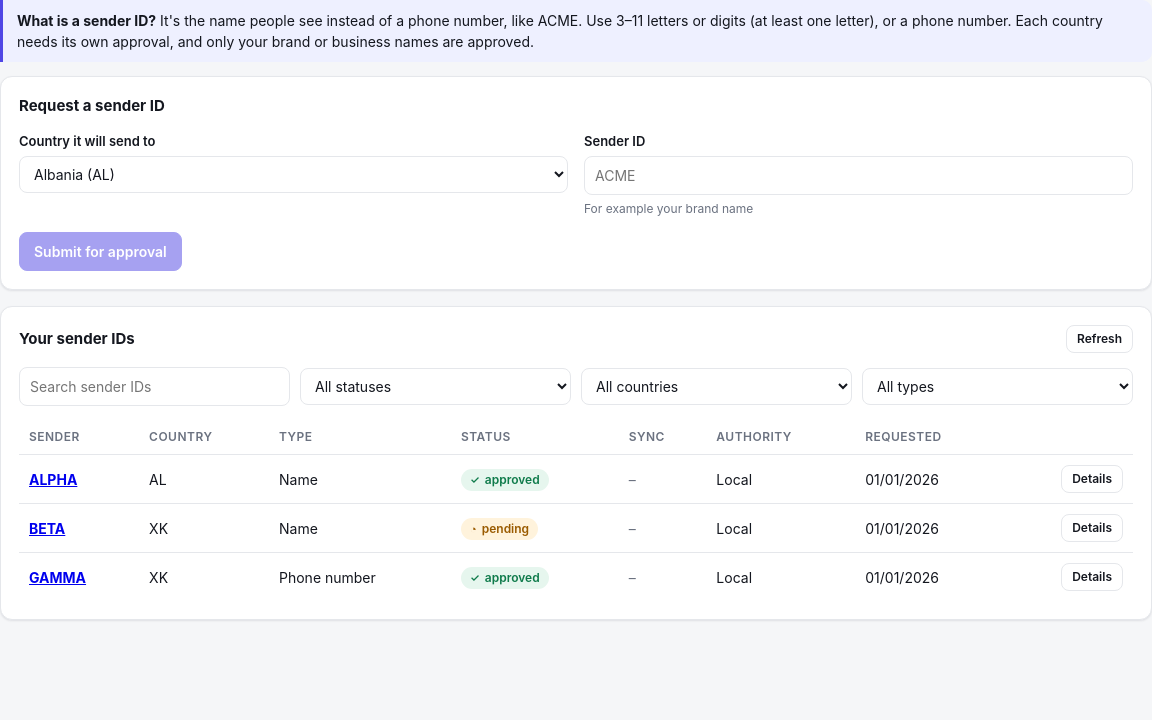
Test: filters, pagination, empty, loading, errors › 25 filters by search, status, country and type (over the loaded, capped set)
Expected: the text "ALPHA" is shown, [29,470,77,488]
Type "bet" into the search field with placeholder "Search sender IDs" at (154, 386), box [19,367,290,406]
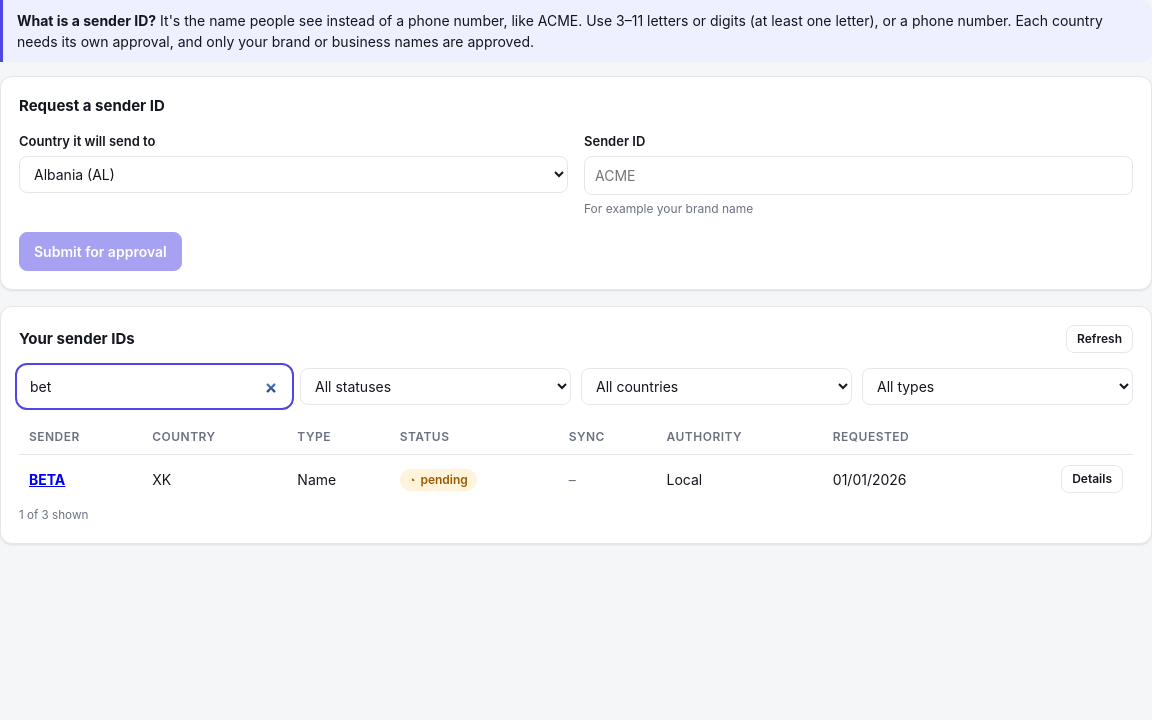
Expected: the text "BETA" is shown, [29,470,65,488]
Expected: the link "ALPHA" is gone
Clear the search field at (154, 386), box [19,367,290,406]
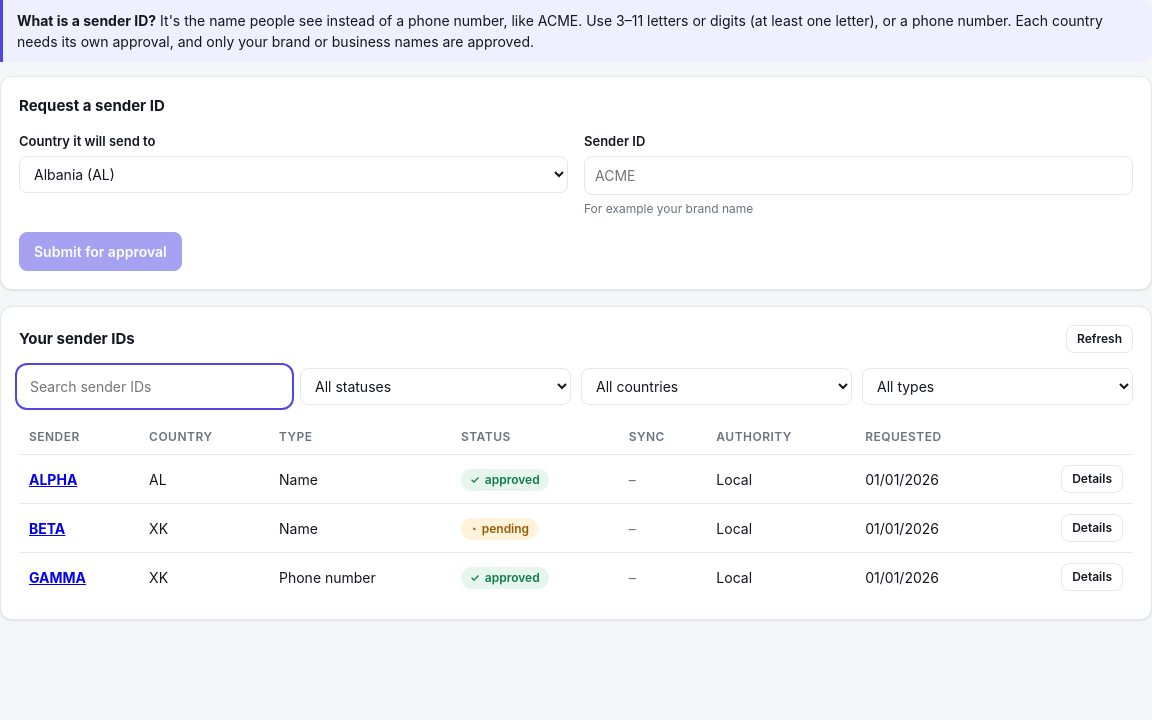
Select "pending" in the dropdown named "Status" at (436, 386), box [300,368,571,405]
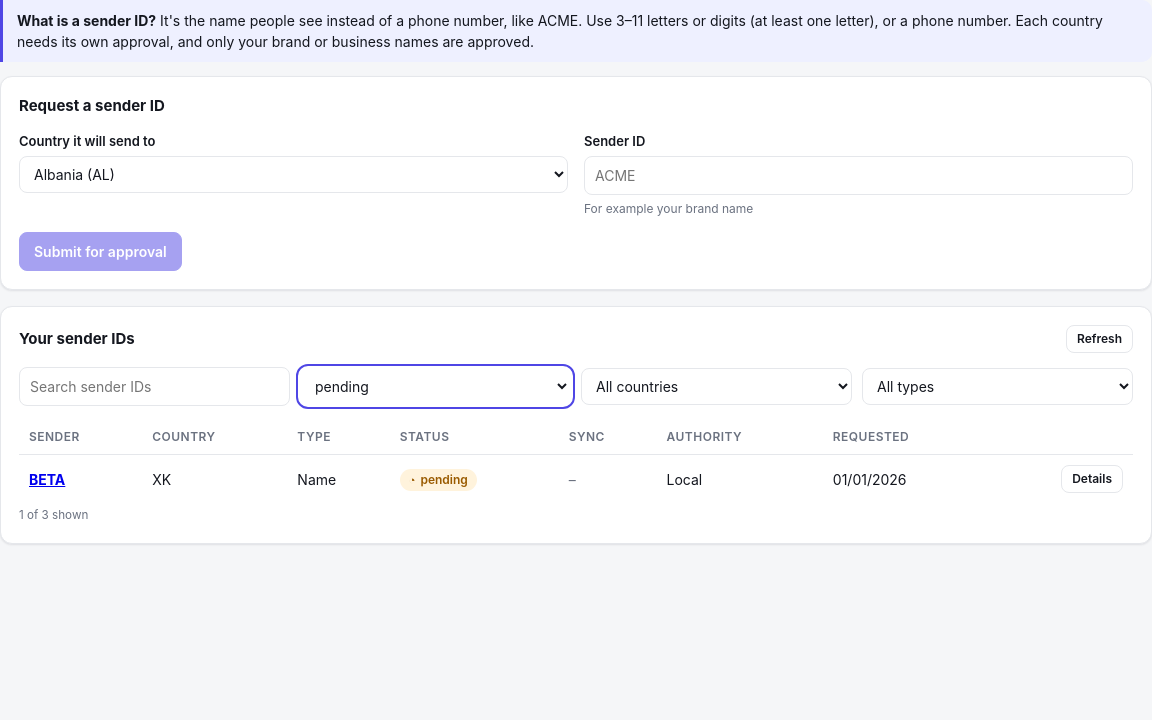
Expected: the text "BETA" is shown, [29,470,65,488]
Expected: the link "GAMMA" is gone
Select "All statuses" in the dropdown named "Status" at (436, 386), box [300,368,571,405]
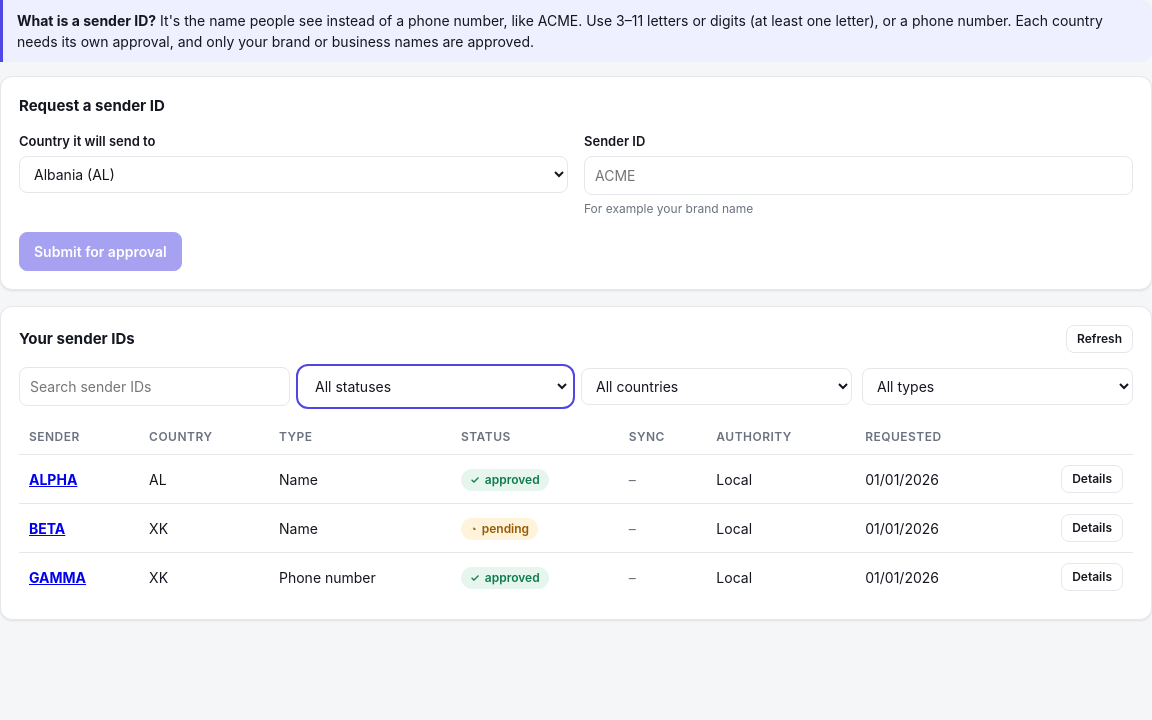
Select "XK" in the dropdown named "Country" at (716, 386), box [581,368,852,405]
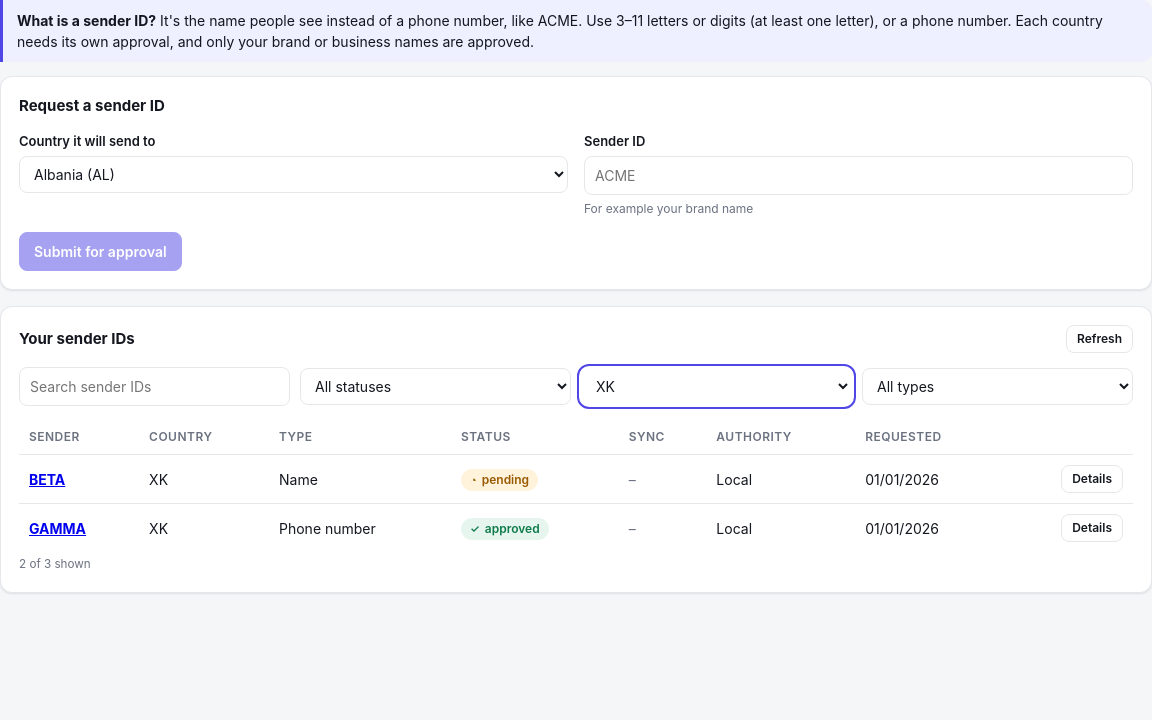
Expected: the link "ALPHA" is gone
Select "Phone number" in the dropdown named "Type" at (998, 386), box [862,368,1133,405]
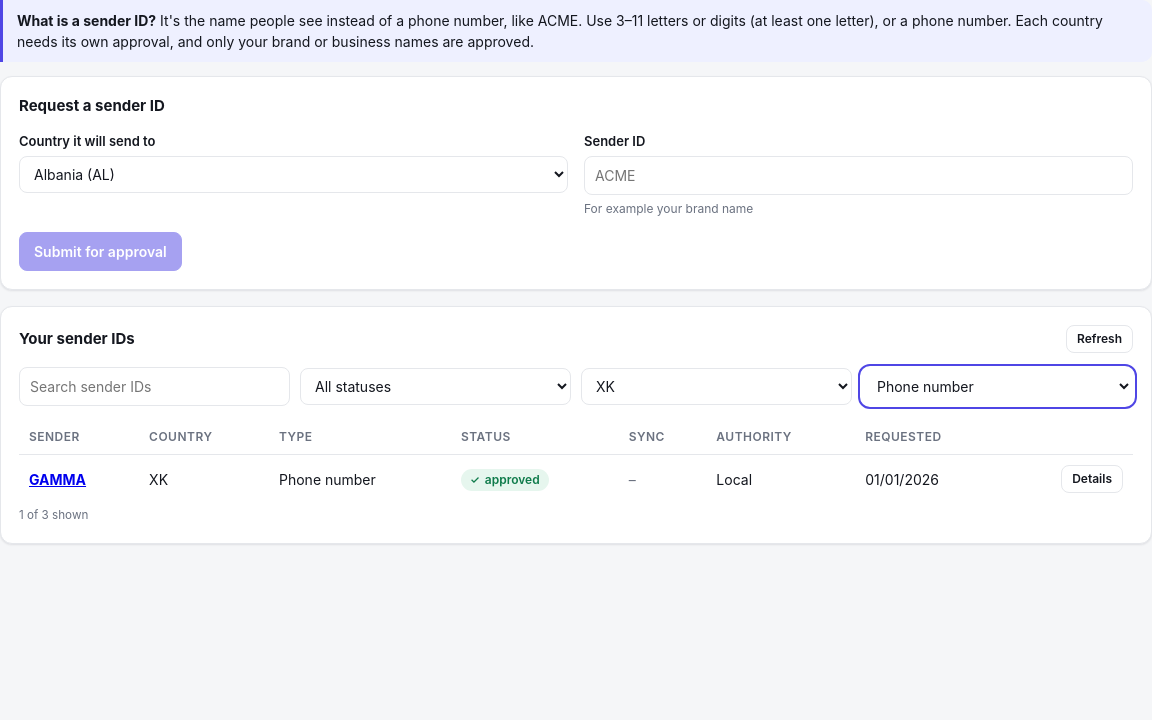
Expected: the text "GAMMA" is shown, [29,470,86,488]
Expected: the link "BETA" is gone
